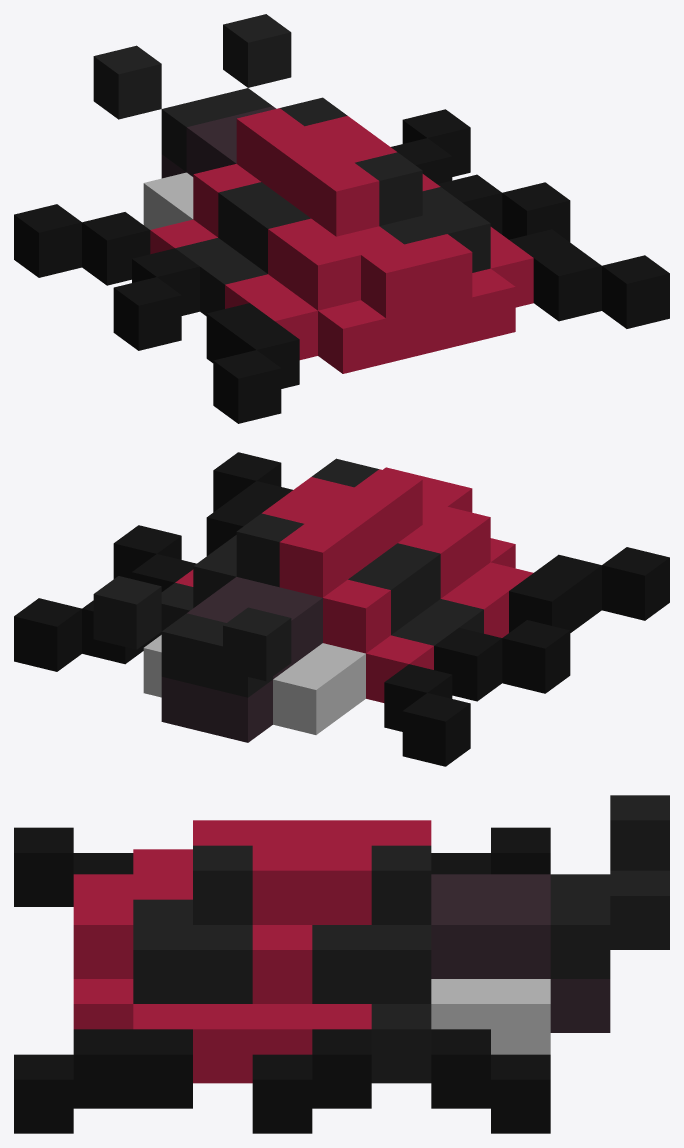
Rendered from ladybug.glb.
3 views of the same model, one above another, from view 1: azimuth 30°, elevation 25°; view 2: azimuth 150°, elevation 25°; view 3: azimuth 270°, elevation 25° (orthographic). The views are drawn at different scales.
Visible parts, largest first — view 1: ladybugbig; view 2: ladybugbig; view 3: ladybugbig.
Part boxes in pixels (box(x1,y1,x2,y2)): ladybugbig: box(14, 14, 669, 423); ladybugbig: box(14, 452, 669, 766); ladybugbig: box(14, 795, 669, 1133).
Size of the model in its own units: 1 by 0.3 by 1.1.
